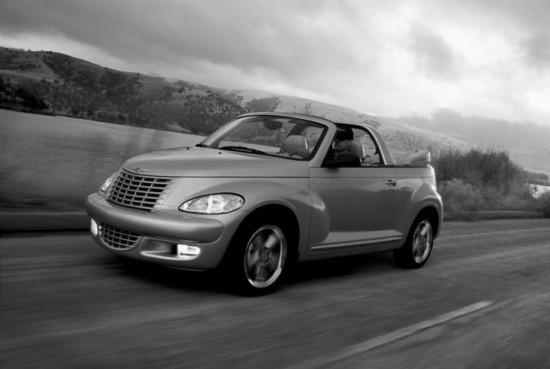car: (82, 109, 450, 300)
